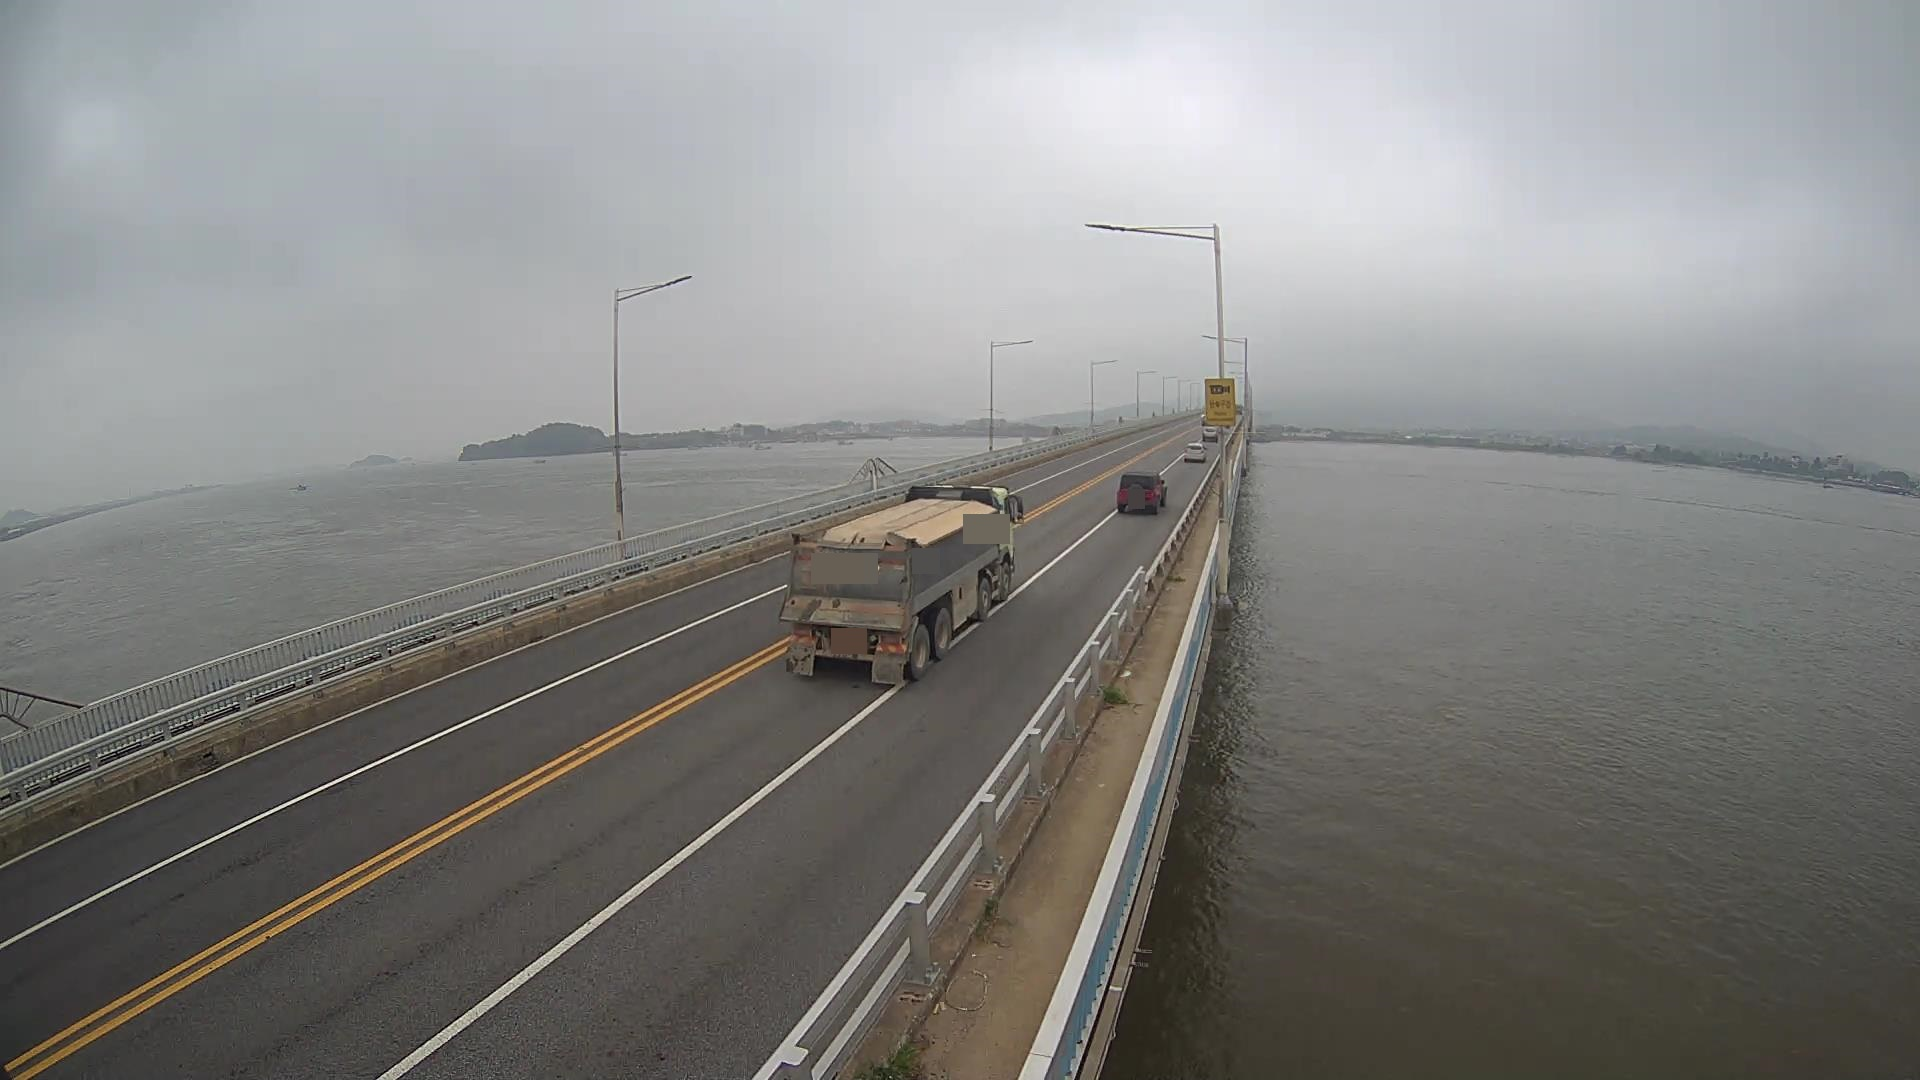정상차량: (777, 481, 1026, 687)
